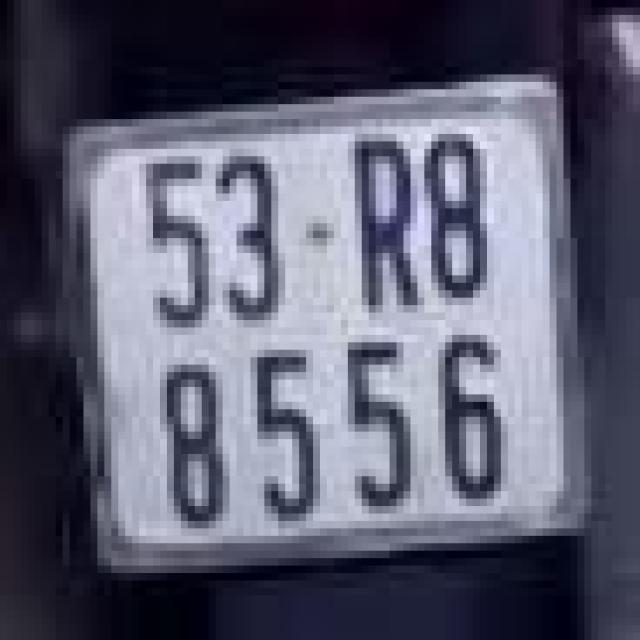3: (212, 138, 289, 324)
5: (125, 149, 216, 335), (337, 328, 421, 528), (247, 335, 323, 521)
6: (428, 323, 532, 510)
8: (424, 126, 501, 312), (153, 353, 230, 524)
R: (344, 119, 428, 320)
